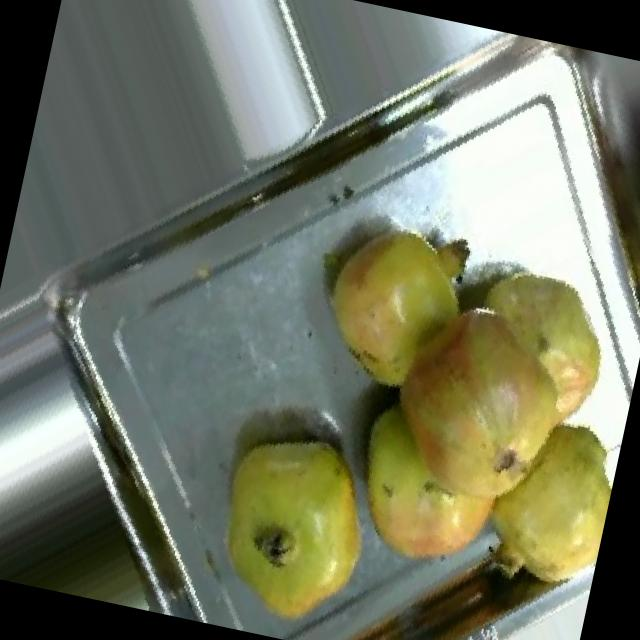fruit: (344, 215, 640, 547), (172, 394, 406, 640), (289, 188, 508, 427)
